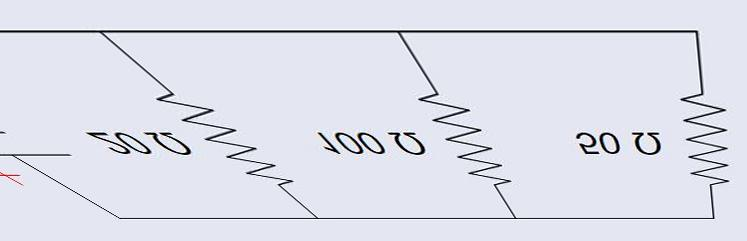resistor: (151, 84, 296, 185), (418, 83, 520, 191), (677, 81, 737, 193)
